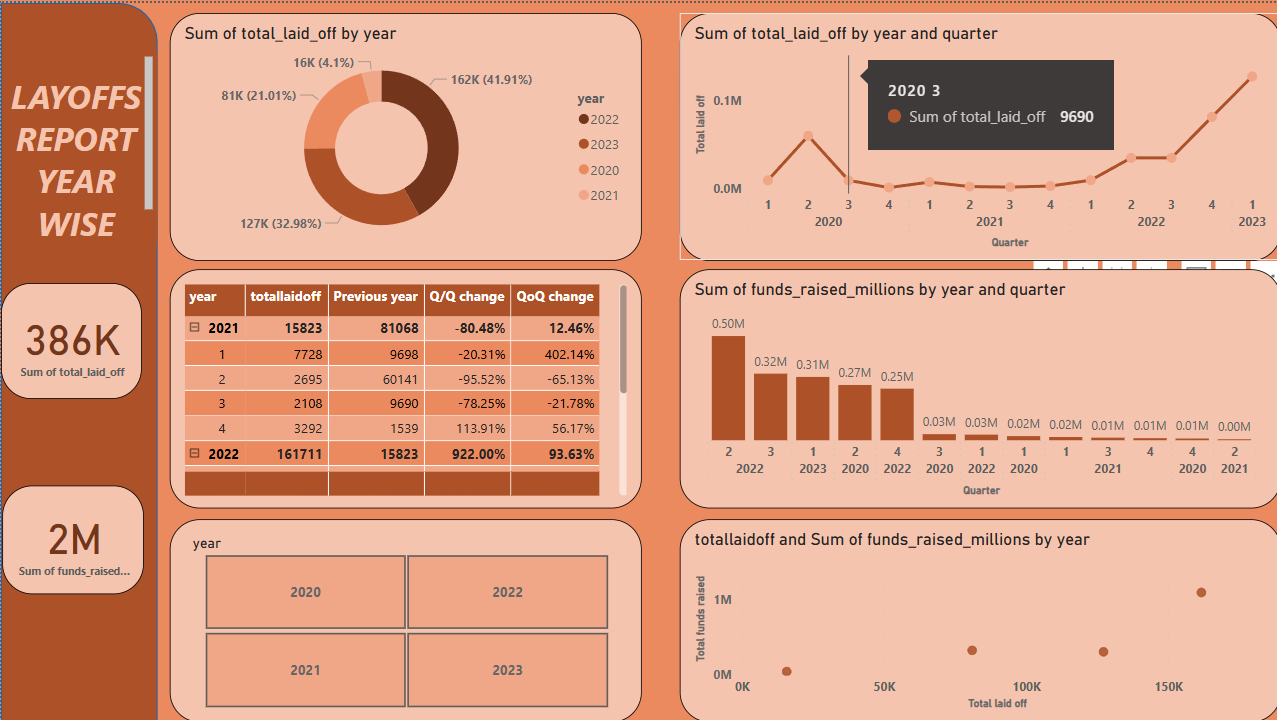

The dashboard page shown, as its layout file describes it:
{"tool":"powerbi","page":{"name":"TIme series ","canvas":[1280,720],"ordinal":0},"visuals":[{"type":"slicer","fields":{"Values":["newdate.year"]},"box":[168.7,515.9,471.9,202.9],"z":0},{"type":"lineChart","fields":{"Y":["Sum(layoffstuned.total_laid_off)"],"Category":["newdate.year","newdate.quarter"]},"box":[678.4,9.8,601.4,248.1],"z":1000},{"type":"shape","box":[0,0,156.7,720],"z":2000},{"type":"card","fields":{"Values":["Sum(layoffstuned.total_laid_off)"]},"box":[0,279.9,140.6,116.1],"z":3000},{"type":"card","fields":{"Values":["Sum(layoffstuned.funds_raised_millions)"]},"box":[1.2,482.9,141.8,108.8],"z":4000},{"type":"donutChart","fields":{"Y":["Sum(layoffstuned.total_laid_off)"],"Category":["newdate.year"]},"box":[168.7,9.8,471.9,248.1],"z":5000},{"type":"clusteredColumnChart","fields":{"Y":["Sum(layoffstuned.funds_raised_millions)"],"Category":["newdate.year","newdate.quarter"]},"box":[678.4,266.5,601.4,239.6],"z":6000},{"type":"pivotTable","fields":{"Values":["layoffstuned.totallaidoff","layoffstuned.Previous year","layoffstuned.Q/Q change","layoffstuned.QoQ change"],"Rows":["newdate.year","newdate.quarter"]},"box":[168.7,266.5,471.9,239.6],"z":7000},{"type":"textbox","box":[1.2,48.9,155.2,194.4],"z":8000},{"type":"scatterChart","fields":{"X":["layoffstuned.sumoftotallaidoff"],"Category":["newdate.year"],"Y":["Sum(layoffstuned.funds_raised_millions)"]},"box":[678.4,515.9,601.4,202.9],"z":9000}]}

Visuals, with their boxes in screenshot pixels (x1, y1, x2, y2), scaled from the page's 1280x720 canvas onto the 1277x720 screenshot:
slicer - newdate.year: (left=168, top=516, right=639, bottom=719)
lineChart - Sum(layoffstuned.total_laid_off) x newdate.year: (left=677, top=10, right=1276, bottom=258)
shape: (left=0, top=0, right=156, bottom=719)
card - Sum(layoffstuned.total_laid_off): (left=0, top=280, right=140, bottom=396)
card - Sum(layoffstuned.funds_raised_millions): (left=1, top=483, right=143, bottom=592)
donutChart - Sum(layoffstuned.total_laid_off) x newdate.year: (left=168, top=10, right=639, bottom=258)
clusteredColumnChart - Sum(layoffstuned.funds_raised_millions) x newdate.year: (left=677, top=266, right=1276, bottom=506)
pivotTable - layoffstuned.totallaidoff x layoffstuned.Previous year: (left=168, top=266, right=639, bottom=506)
textbox: (left=1, top=49, right=156, bottom=243)
scatterChart - layoffstuned.sumoftotallaidoff x newdate.year: (left=677, top=516, right=1276, bottom=719)
